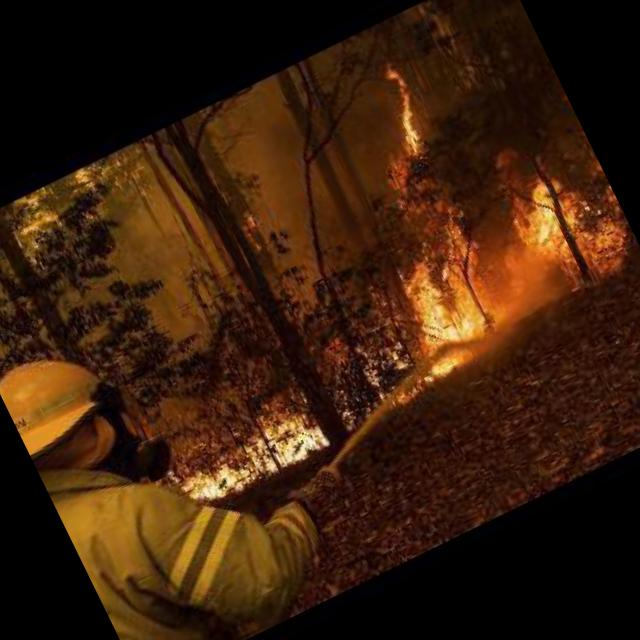fire: (261, 58, 532, 402), (475, 95, 640, 302), (155, 386, 330, 515)
